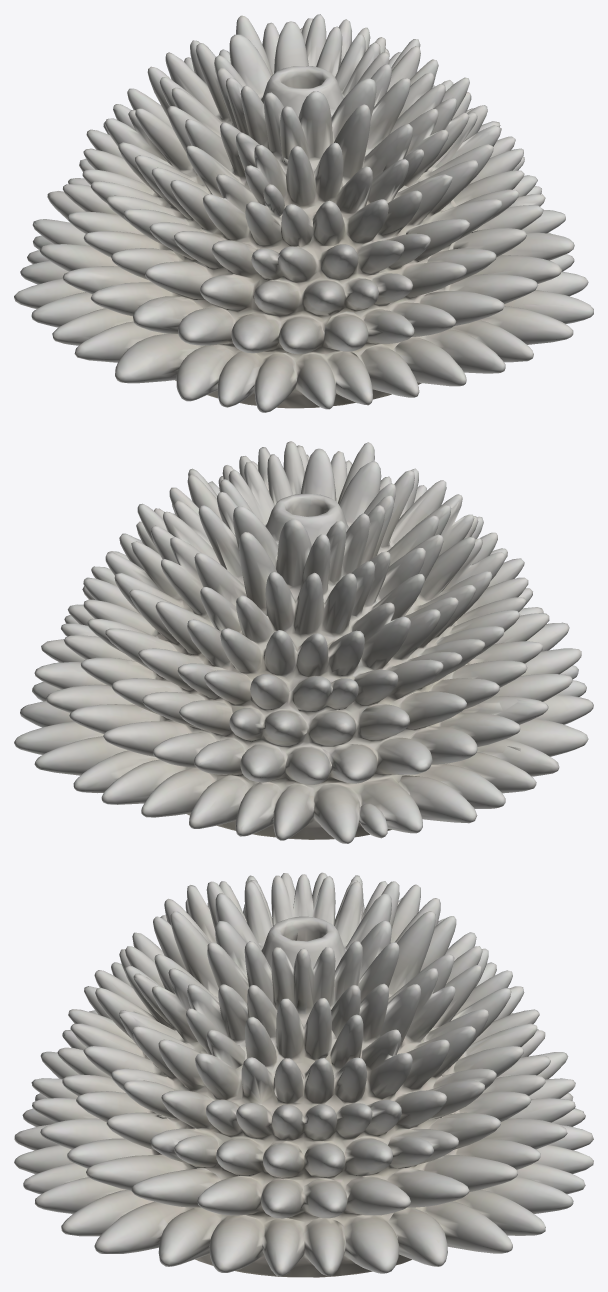
Rendered from riccio.glb.
3 views of the same model, one above another, from view 1: azimuth 30°, elevation 25°; view 2: azimuth 150°, elevation 25°; view 3: azimuth 270°, elevation 25° (orthographic). The views are drawn at different scales.
Parts seen in each view (by area): view 1: material; view 2: material; view 3: material.
Part boxes in pixels (x1,y1,x2,y2): material: [14, 14, 593, 412]; material: [14, 441, 593, 843]; material: [14, 872, 593, 1277].
Size of the model in its own units: 1.06 by 0.6122 by 1.06.
Materials: 1 (1 with a texture image).
